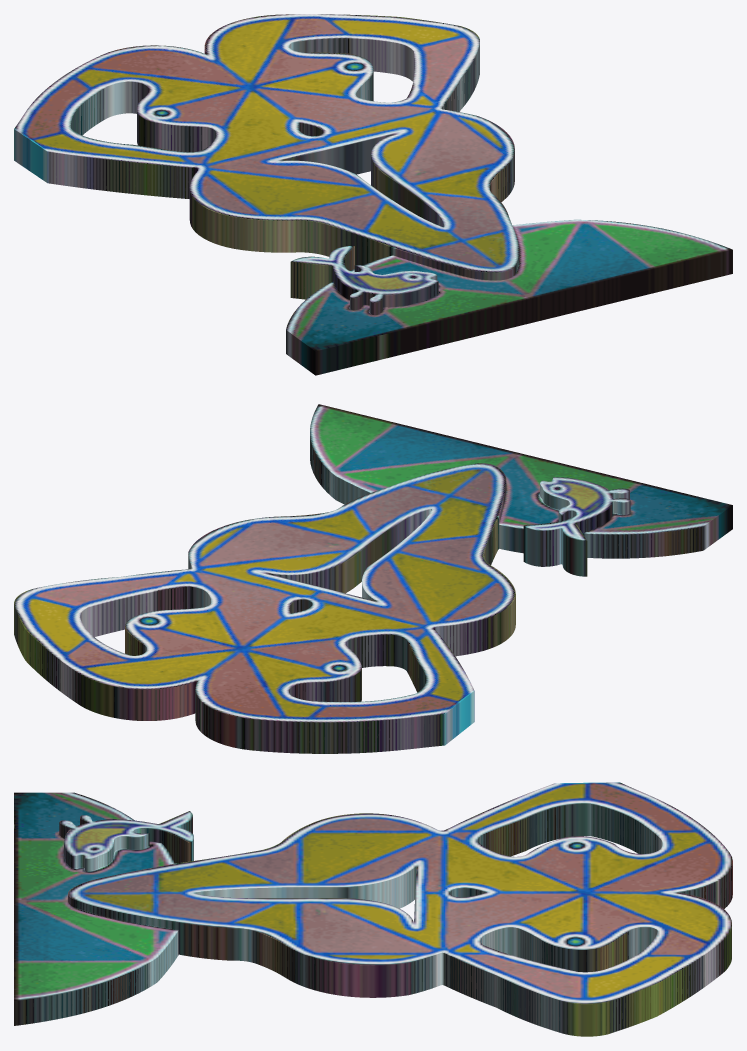
File: muro del agua 1.dae
3 views of the same model, one above another, from view 1: azimuth 30°, elevation 25°; view 2: azimuth 150°, elevation 25°; view 3: azimuth 270°, elevation 25° (orthographic). The views are drawn at different scales.
Visible parts, largest first — view 1: SketchUp (×4); view 2: SketchUp (×4); view 3: SketchUp (×4).
Boxes of the visible parts, bbox=[...] form: SketchUp (×4): bbox=[14, 14, 732, 375]; SketchUp (×4): bbox=[14, 404, 732, 753]; SketchUp (×4): bbox=[14, 782, 732, 1036].
Size of the model in its own units: 31.28 by 42.81 by 2.44.
